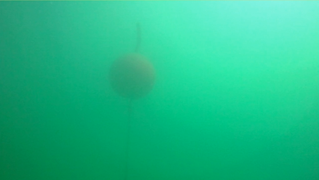buoy: (108, 53, 156, 100)
